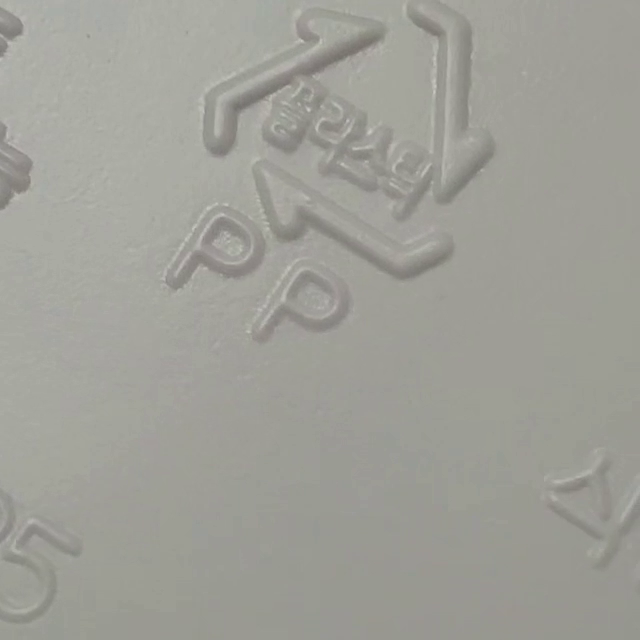Plastic: (201, 1, 495, 281)
